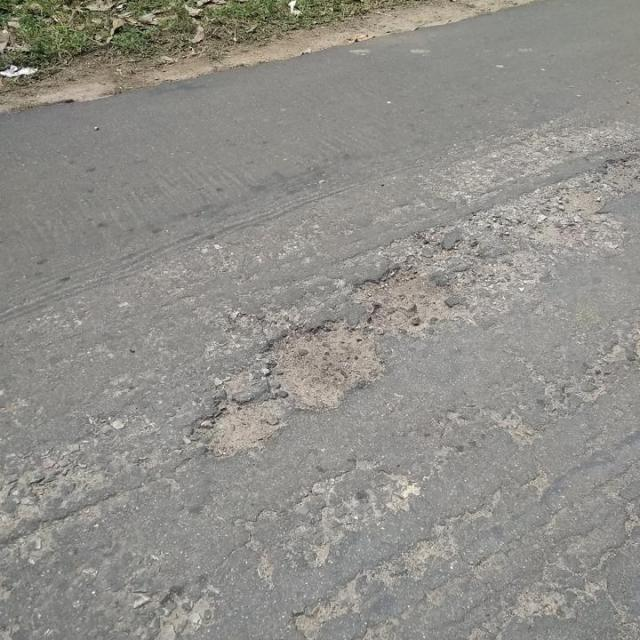Pothole: (516, 148, 640, 247), (262, 318, 390, 412), (352, 259, 457, 337), (193, 394, 286, 464)
